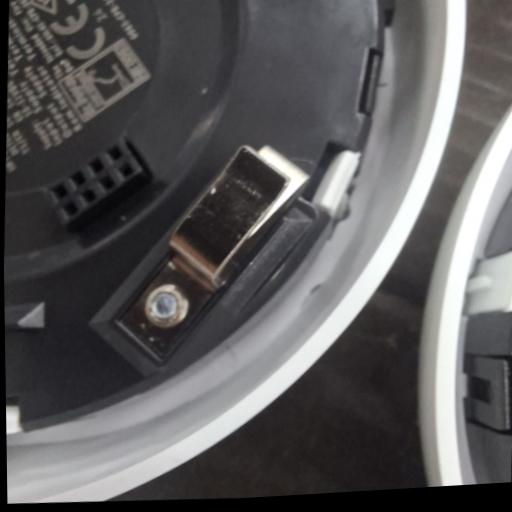yayli: (100, 136, 309, 376)
